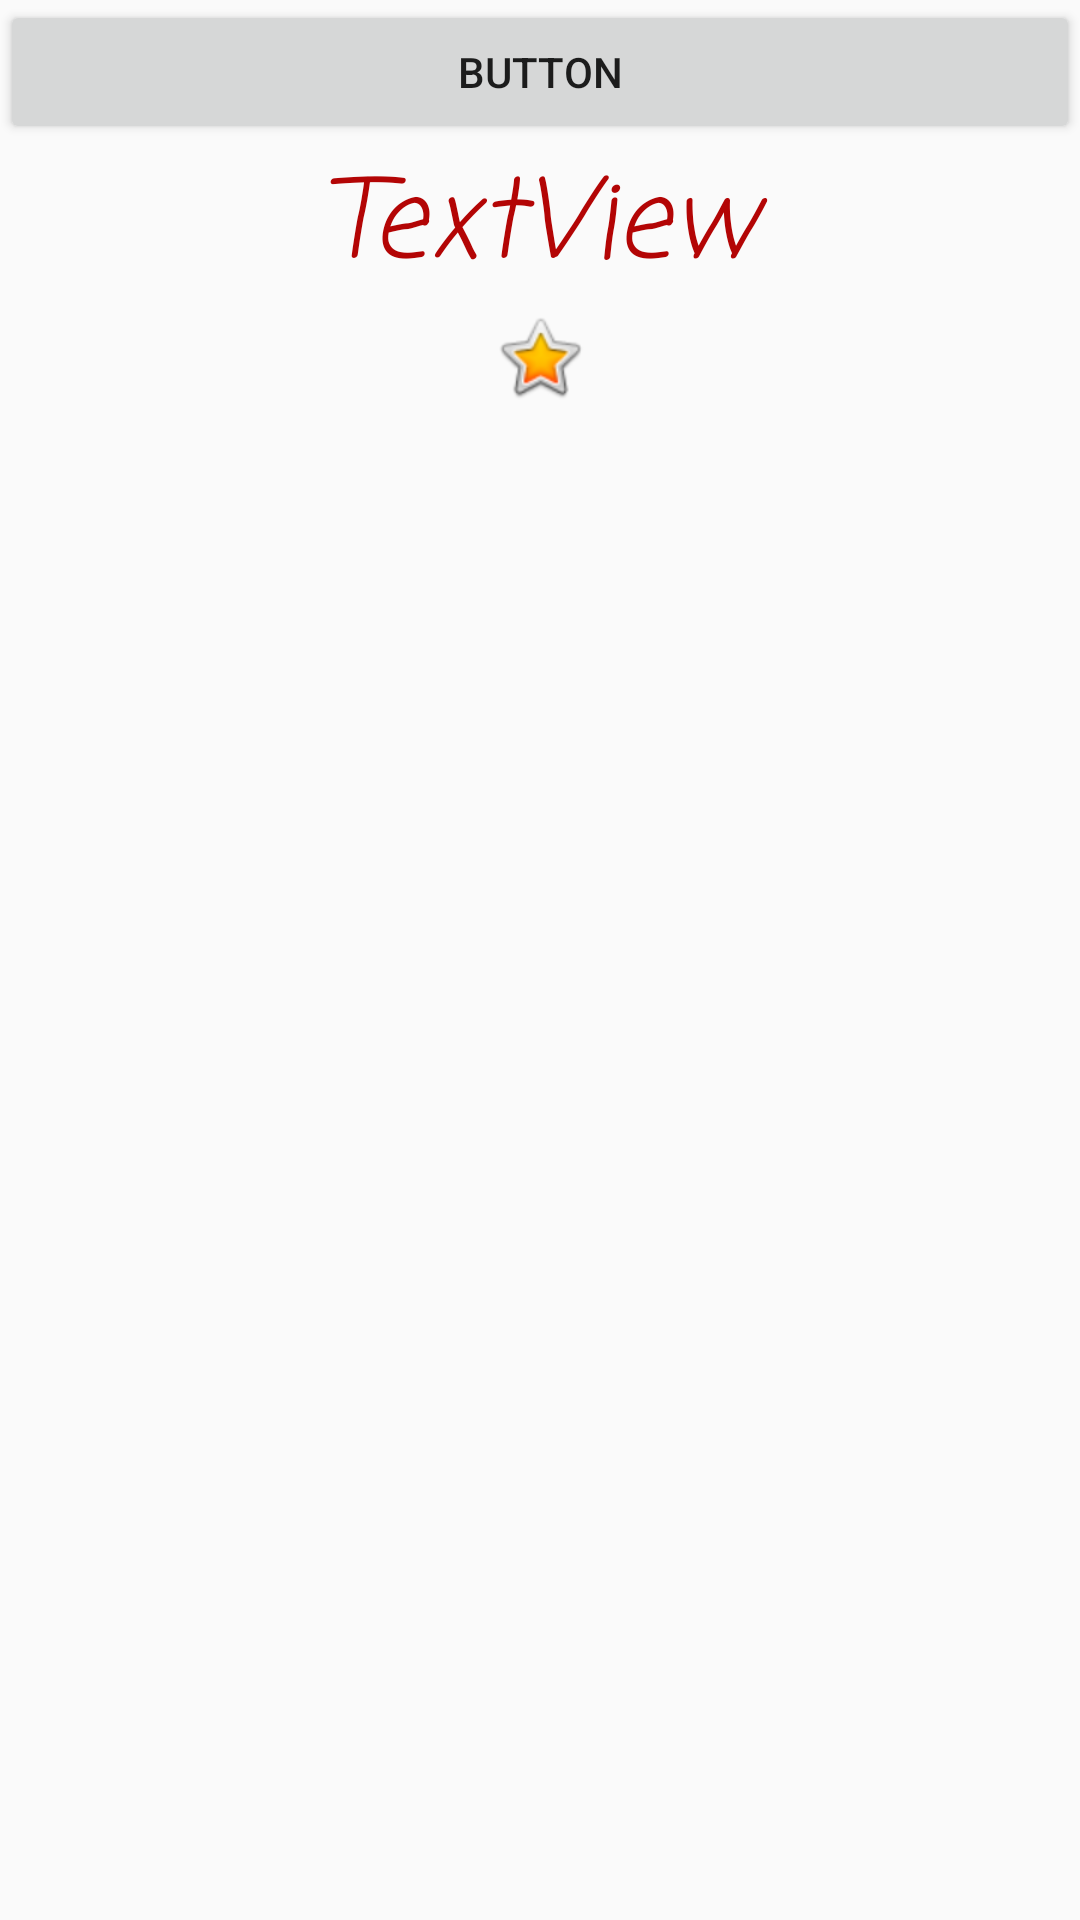

Icon click points for this 1080*1920 phone screenshot, format [x,y]:
star on: [541,358]
